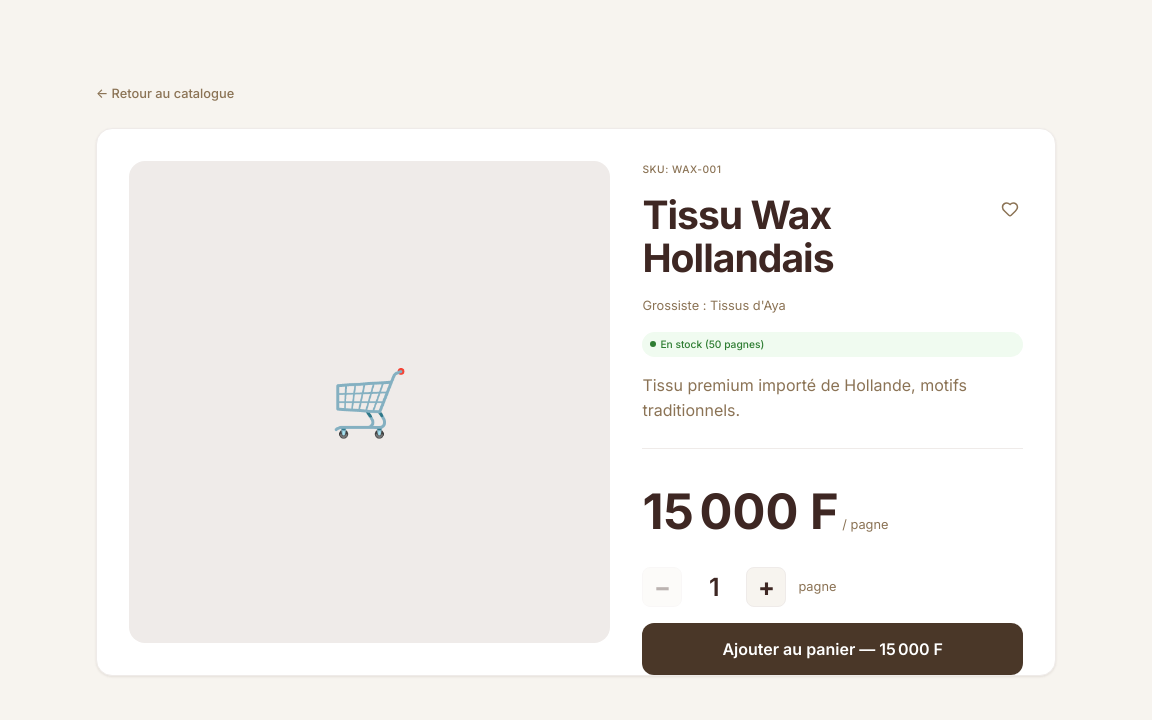
ProductDetail — UC-10 › Quantity selector › increments quantity
expect the heading "Tissu Wax Hollandais" is shown: met, box [642, 191, 834, 281]
Click the button with test id "qty-plus" at (766, 587), box [746, 567, 786, 607]
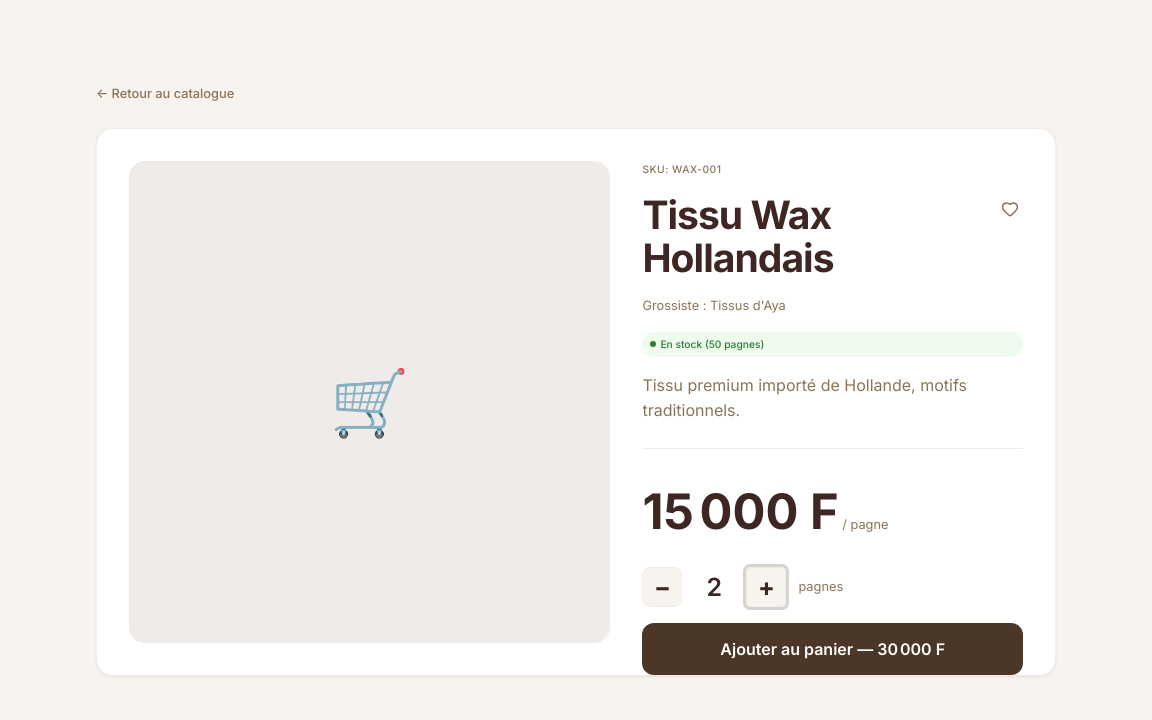
expect the text with test id "qty-value" reads "2": met, box [707, 572, 722, 602]
